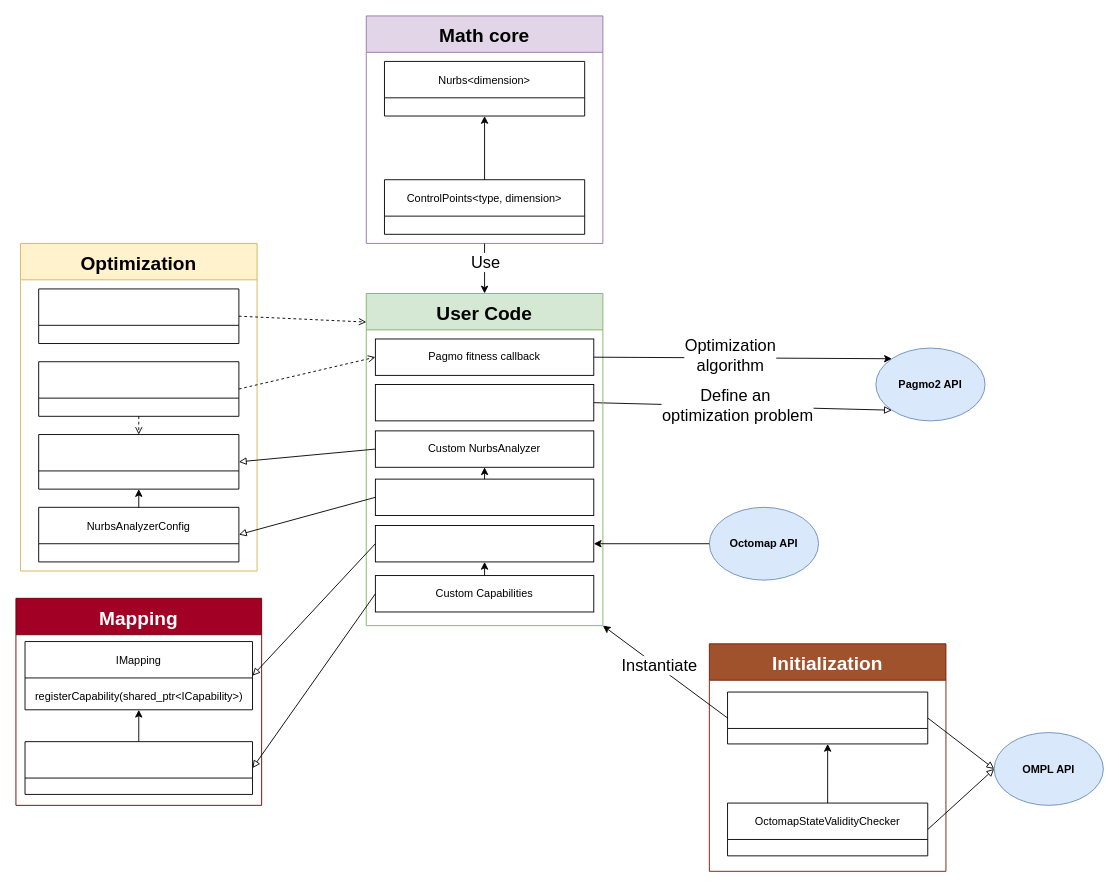
Image size: 1119x887. Some labels were removed from this diagram. Each missing label, with the centre of its shape:
AdaptiveVotingAlgorithm: (138,316)
Custom Mapping: (484,543)
Custom NurbsAnalyzerConfig: (484,497)
EvalNurbsOutput: (138,388)
ICapability: (138,767)
INurbsAnalyzer: (138,461)
OMPLPlanner: (827,717)
Pagmo problem: (484,402)
